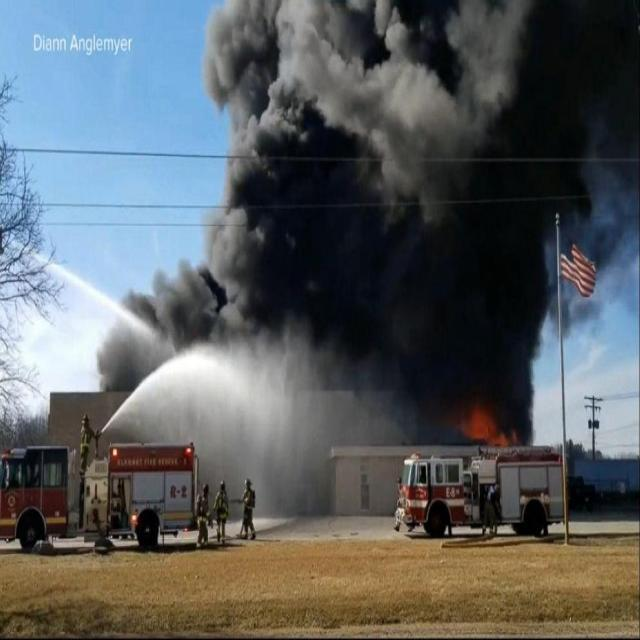Fire: (462, 400, 511, 450)
Smoke: (97, 1, 640, 387)
